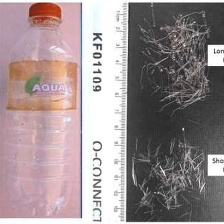bottle: (0, 0, 80, 220)
